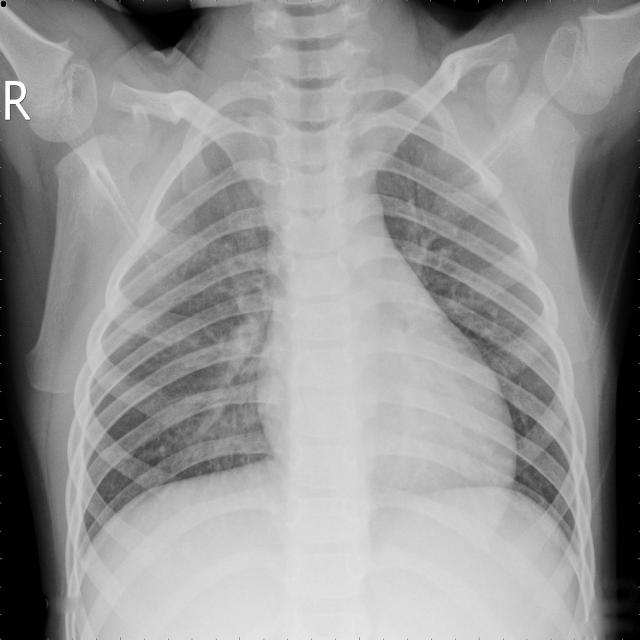no-pneumonia: (71, 132, 281, 569), (377, 133, 582, 540)
